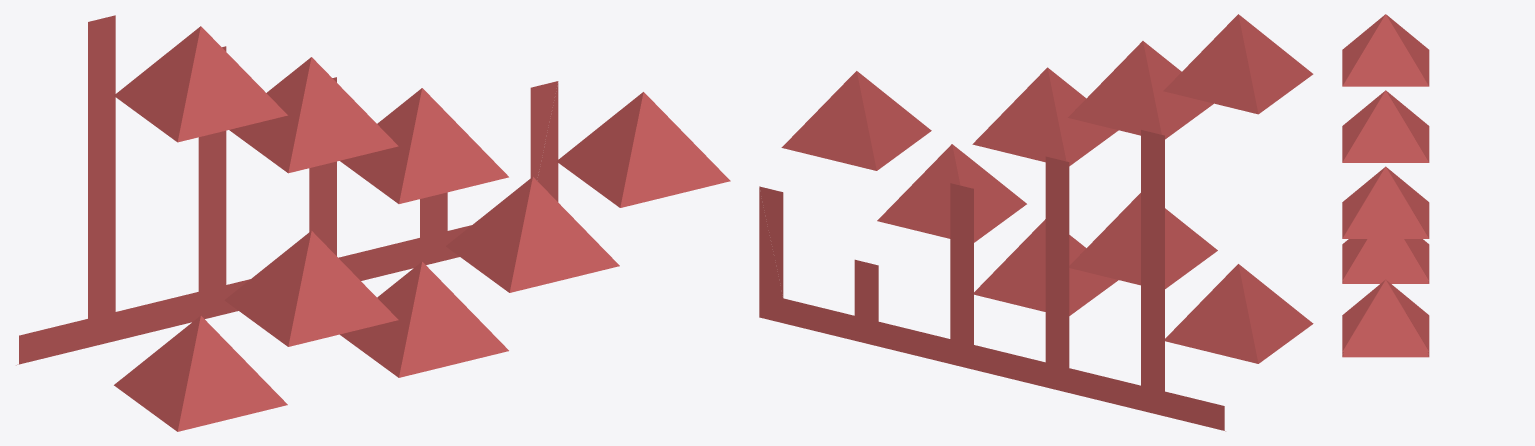
File: objcol_rc_dorifu4.glb
3 views of the same model, side by side, from view 1: azimuth 30°, elevation 25°; view 2: azimuth 150°, elevation 25°; view 3: azimuth 270°, elevation 25° (orthographic). The views are drawn at different scales.
Visible parts, largest first — view 1: rc_dorifu4_col; view 2: rc_dorifu4_col; view 3: rc_dorifu4_col.
Boxes of the visible parts, bbox=[...] form: rc_dorifu4_col: bbox=[16, 15, 730, 431]; rc_dorifu4_col: bbox=[759, 14, 1313, 431]; rc_dorifu4_col: bbox=[1342, 14, 1429, 357].
Bounding box in the file's own units: 2.12 × 1.35 × 0.82.
